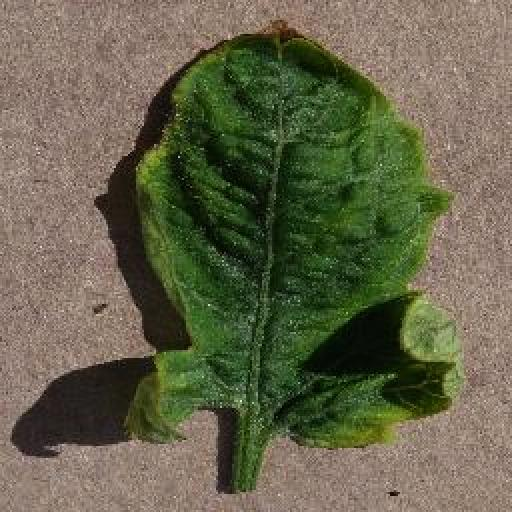disease_tomato: (129, 24, 463, 450)
